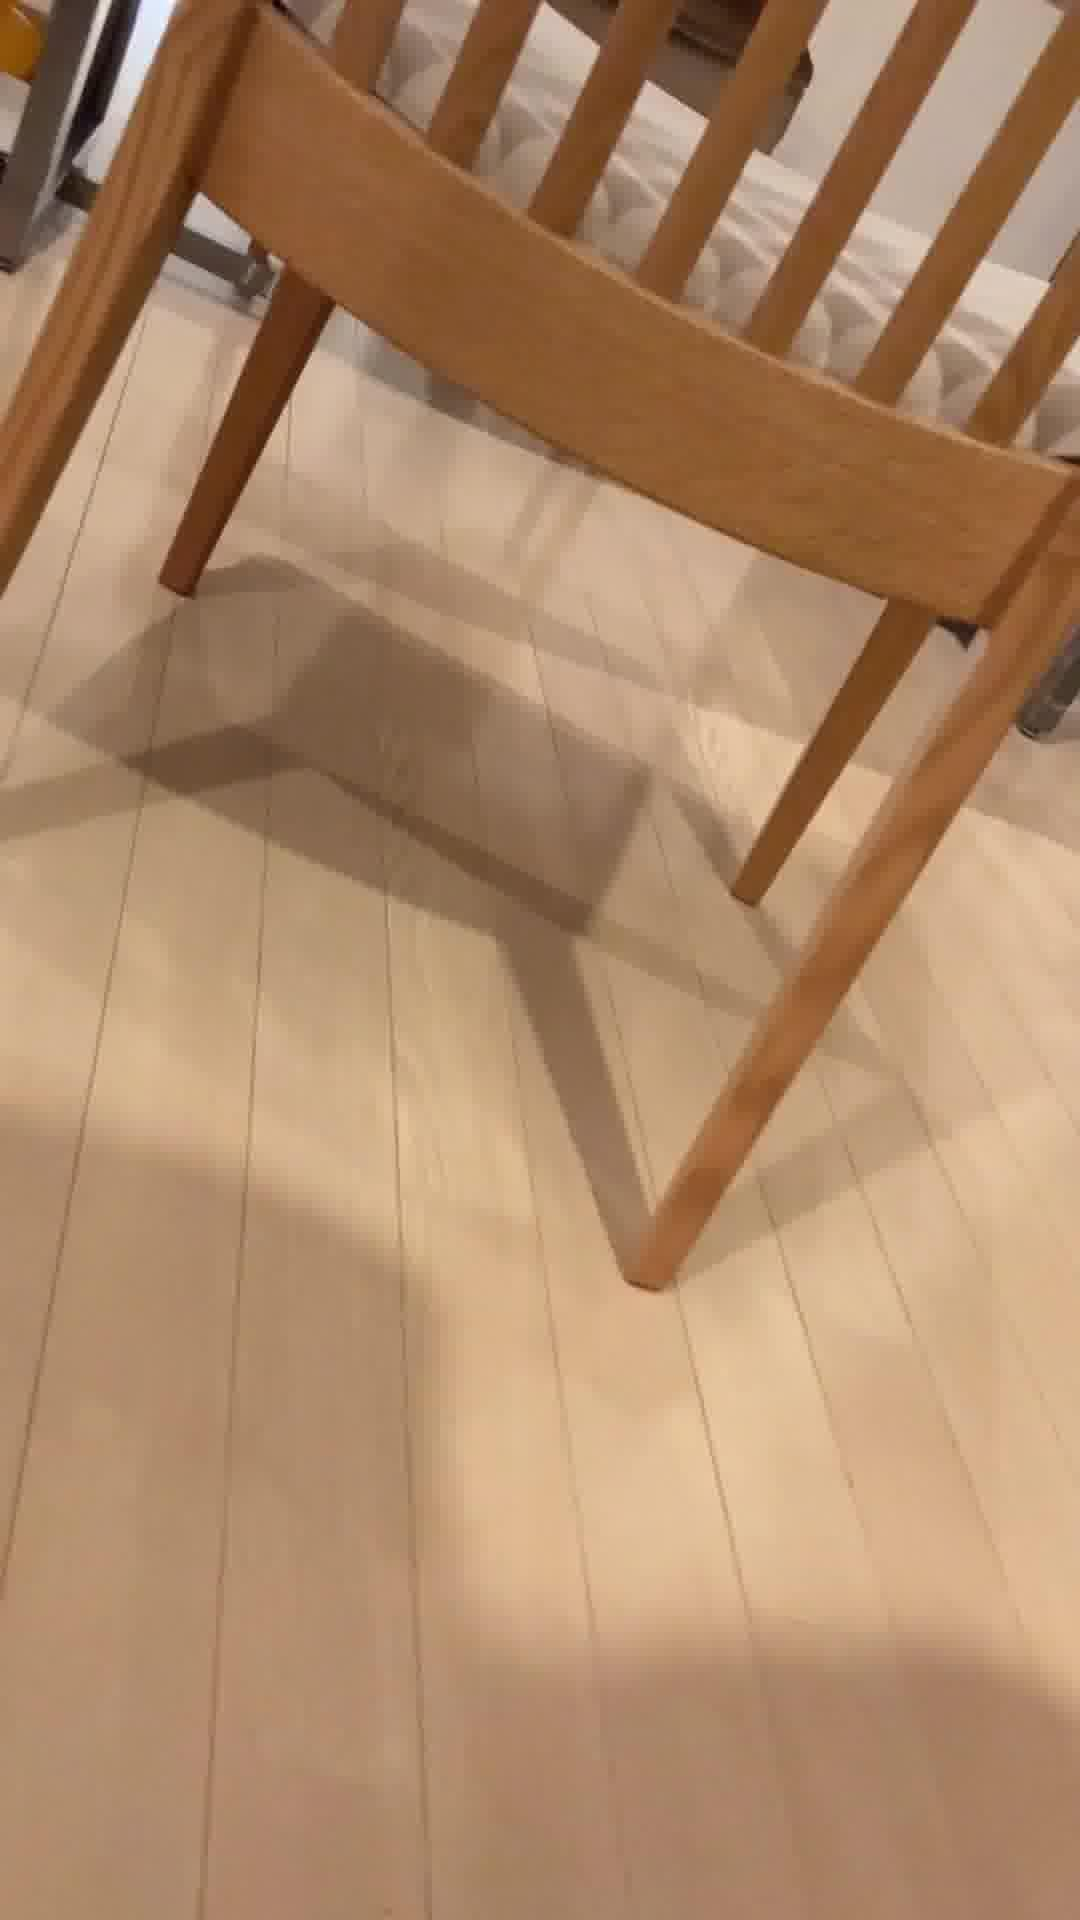takumikan-chair: (0, 0, 1080, 1298)
